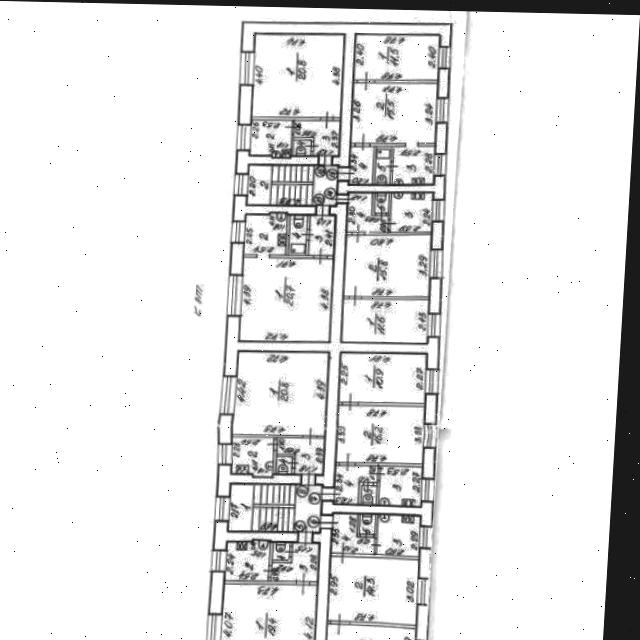room: (232, 348, 328, 436), (252, 30, 344, 118), (240, 255, 331, 341), (328, 557, 418, 621), (344, 233, 431, 296), (221, 583, 316, 640), (336, 403, 424, 464), (352, 81, 436, 143), (338, 350, 427, 403), (229, 482, 322, 531), (342, 296, 428, 343), (246, 163, 337, 206), (354, 34, 439, 80), (390, 190, 433, 234), (391, 189, 432, 234), (376, 514, 420, 555), (272, 542, 318, 581), (277, 436, 324, 474), (331, 512, 374, 553), (244, 213, 287, 254), (226, 540, 269, 579), (378, 466, 421, 504), (334, 465, 377, 503), (293, 120, 339, 155), (347, 192, 388, 231), (392, 145, 434, 183), (231, 436, 273, 474), (250, 119, 292, 154), (327, 625, 415, 640), (307, 213, 334, 255), (350, 146, 374, 184), (287, 214, 307, 255), (375, 146, 390, 183), (359, 513, 375, 534), (291, 138, 311, 154), (361, 484, 377, 504), (374, 191, 389, 212), (276, 455, 292, 473)
